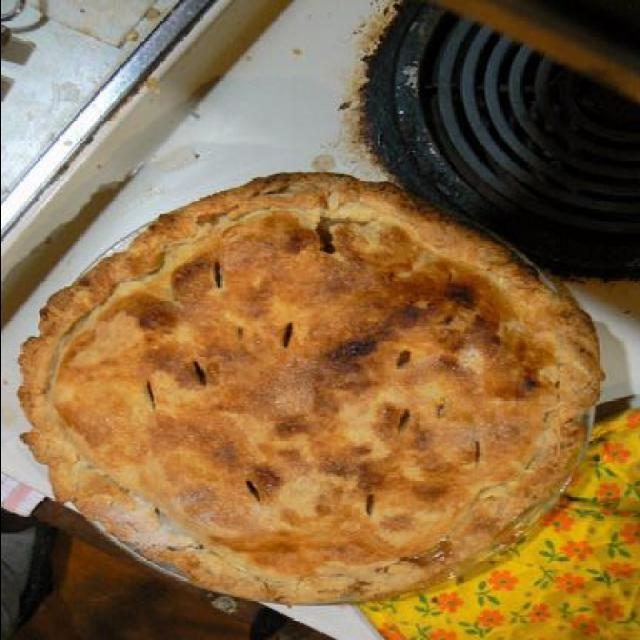Apple: (29, 178, 606, 602)
